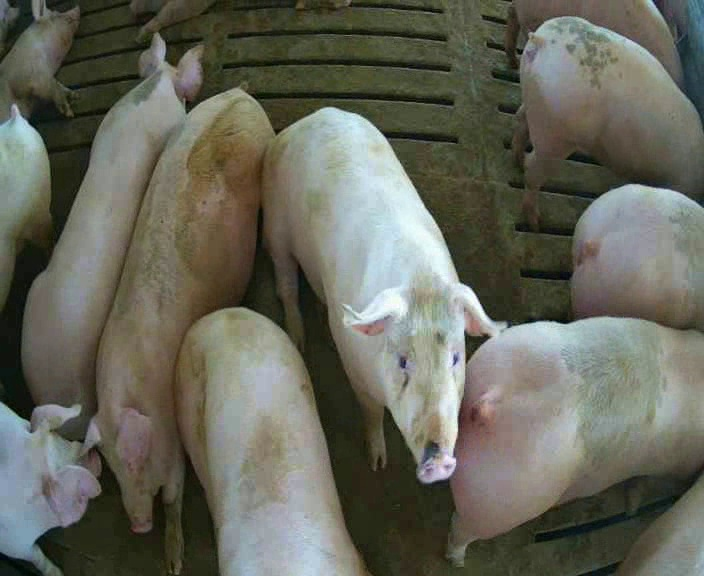pig: (79, 81, 273, 573), (264, 108, 497, 480), (21, 36, 200, 438), (448, 317, 703, 564), (175, 308, 365, 573), (571, 184, 703, 330), (506, 1, 682, 85), (0, 105, 50, 310), (0, 0, 79, 123)
